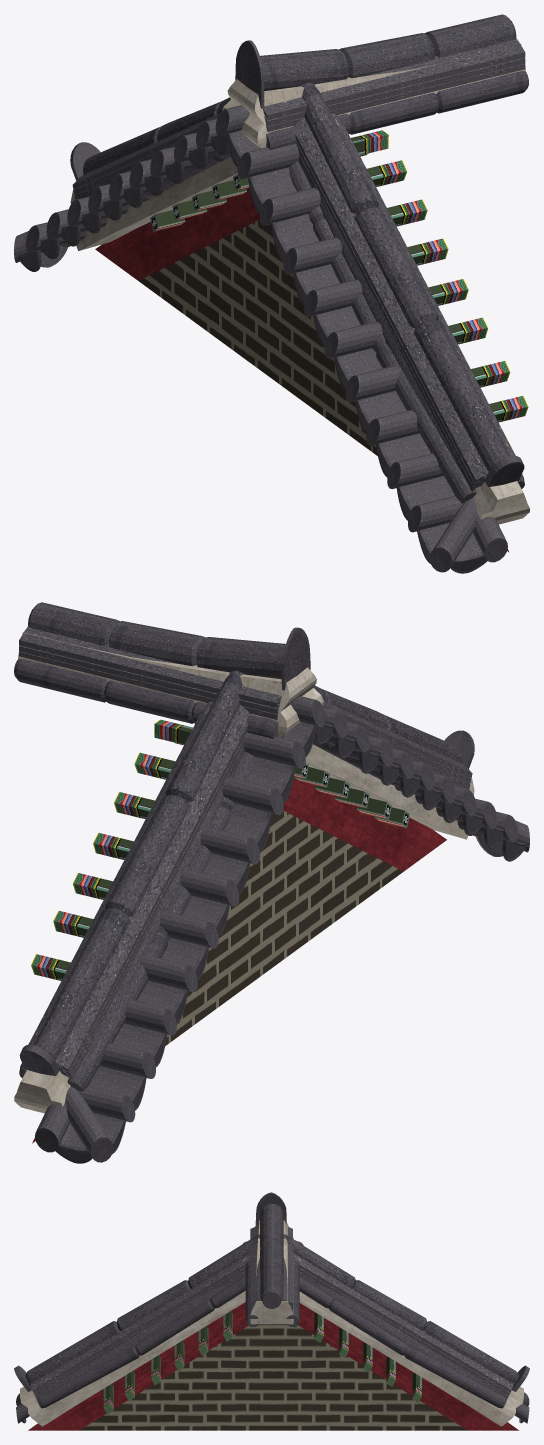
The model's file is SM_R_RoofOuter_4.fbx.
3 renders of one model, top to bottom at view 1: azimuth 30°, elevation 25°; view 2: azimuth 150°, elevation 25°; view 3: azimuth 270°, elevation 25°, orthographic. The views are drawn at different scales.
Parts seen in each view (by area): view 1: SM_R_RoofOuter_4; view 2: SM_R_RoofOuter_4; view 3: SM_R_RoofOuter_4.
Boxes of the visible parts, x1=… form: SM_R_RoofOuter_4: x1=14, y1=14, x2=529, y2=573; SM_R_RoofOuter_4: x1=14, y1=602, x2=529, y2=1163; SM_R_RoofOuter_4: x1=14, y1=1192, x2=529, y2=1430.
Bounding box in the file's own units: 188 × 490 × 238.
4 materials, 4 textured.
